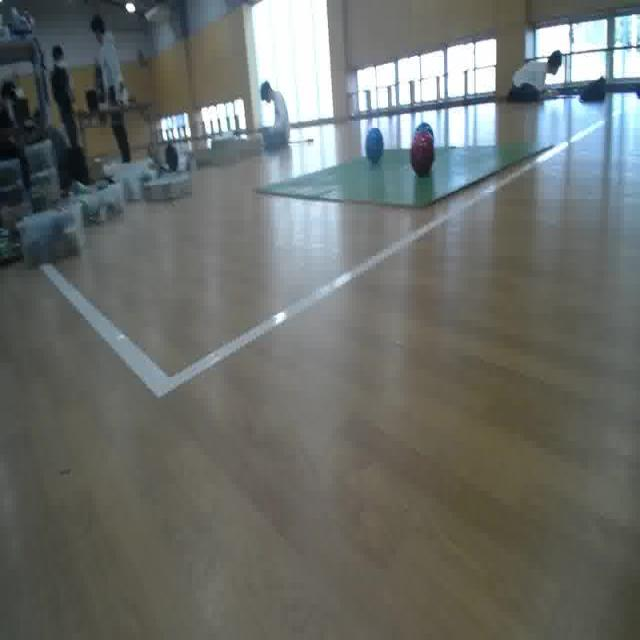blue_ball: (364, 124, 385, 168), (415, 120, 435, 153)
red_ball: (410, 128, 436, 181)
